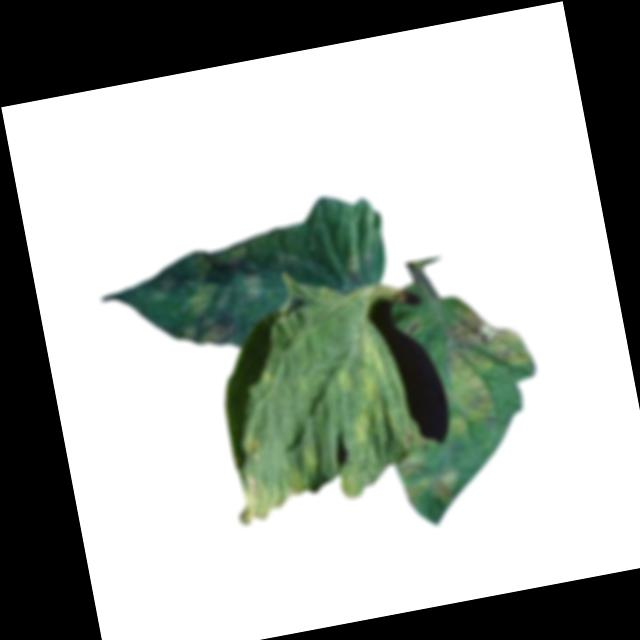Leaf_Mold: (427, 297, 541, 435), (149, 239, 270, 359), (328, 328, 395, 447), (231, 462, 310, 530), (392, 450, 465, 513), (242, 433, 271, 463)
